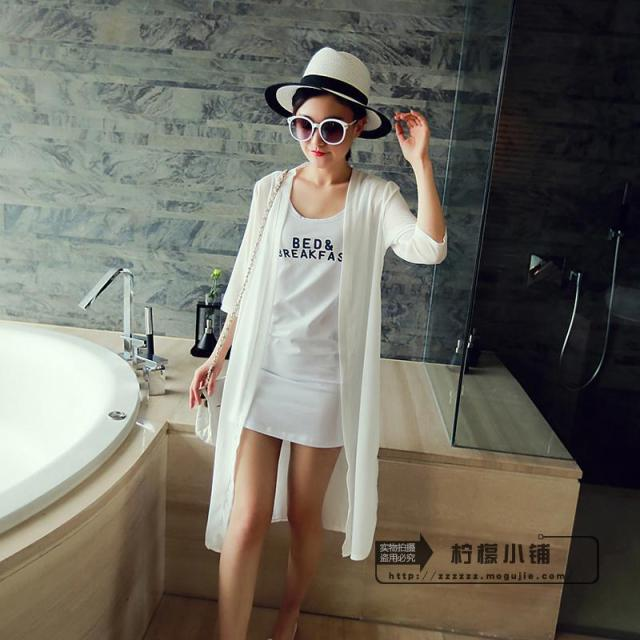long-sleeve-dress: (232, 165, 460, 578)
